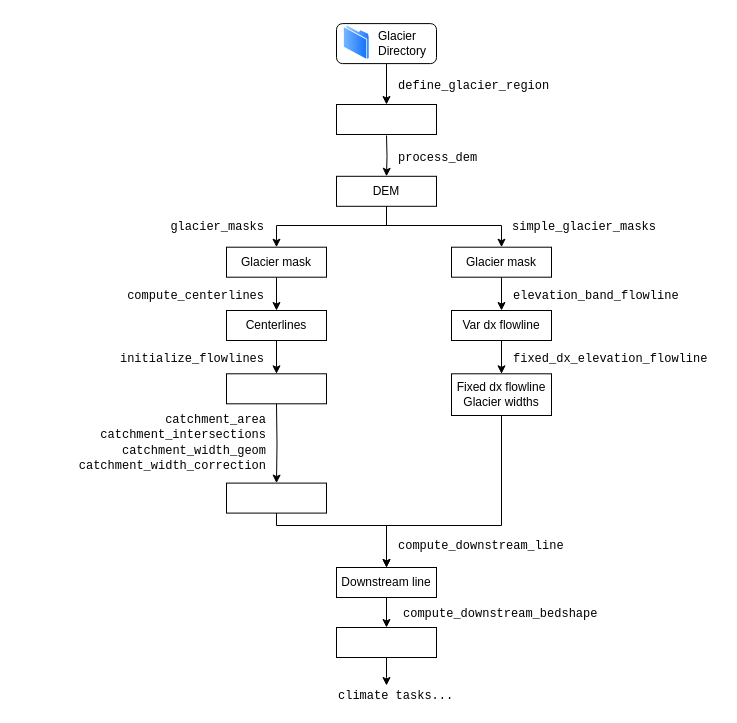
Some shapes in this 737 by 723 pixel diagram are drawn without their labels. Here are the shapes that lost their labels. From the top down, the centre of each, then its label:
the point at 386,119: Glacier map
the point at 276,388: Flowlines
the point at 276,497: Glacier widths
the point at 386,642: Bedshapes
